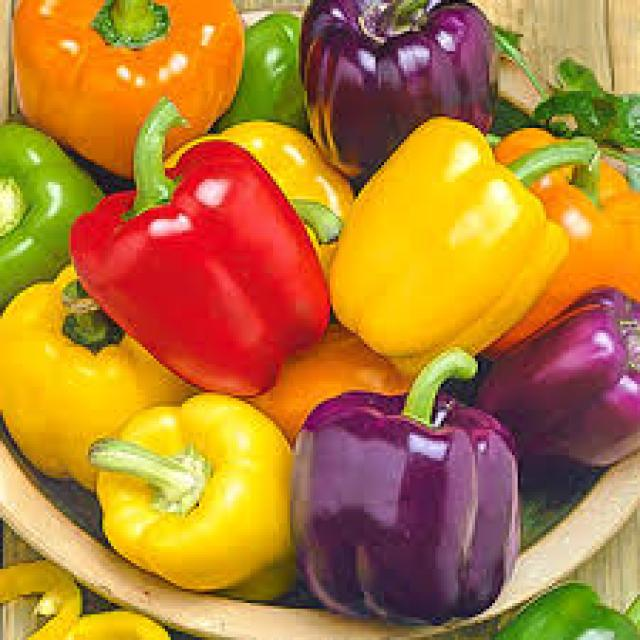Bell pepper: (64, 106, 344, 404), (316, 126, 580, 389), (291, 364, 530, 622), (82, 388, 320, 598), (0, 265, 199, 486), (296, 0, 509, 174), (10, 0, 252, 146), (492, 111, 640, 333), (478, 303, 640, 462), (0, 118, 112, 310), (208, 3, 329, 139), (0, 559, 163, 640), (486, 589, 640, 640)
